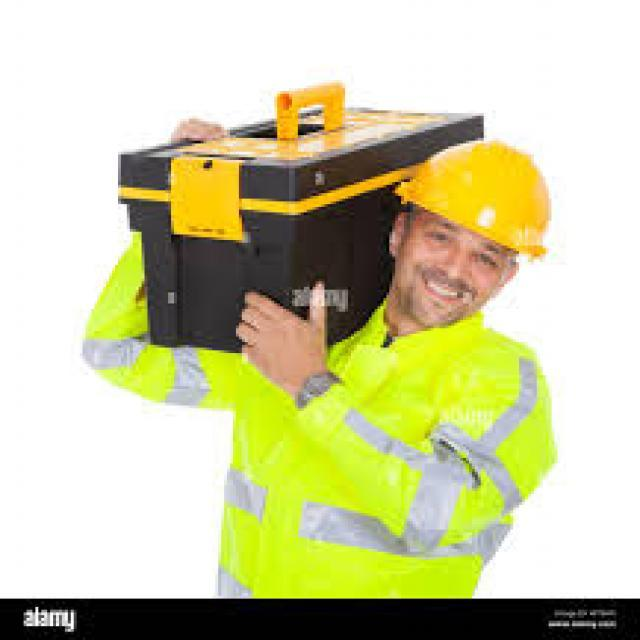reflective_jacket: (162, 300, 551, 593)
safety_helmet: (389, 132, 557, 259)
